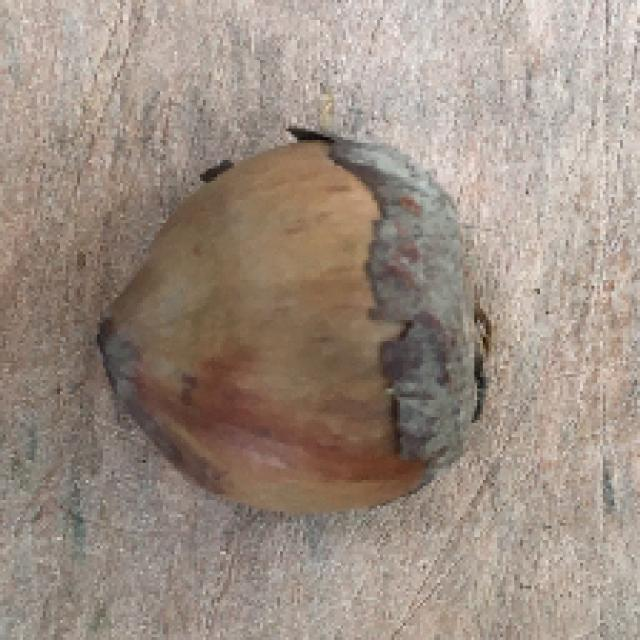damagedHazelnut: (101, 130, 495, 522)
